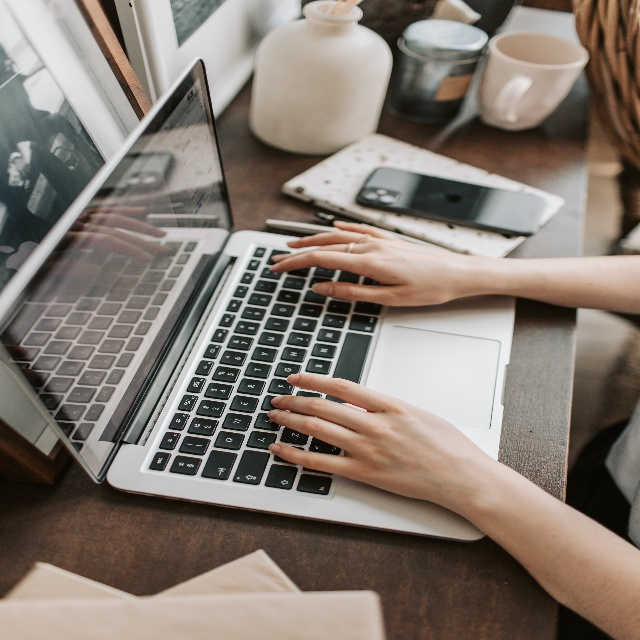Sin_guantes: (265, 372, 463, 514), (267, 220, 461, 307)
